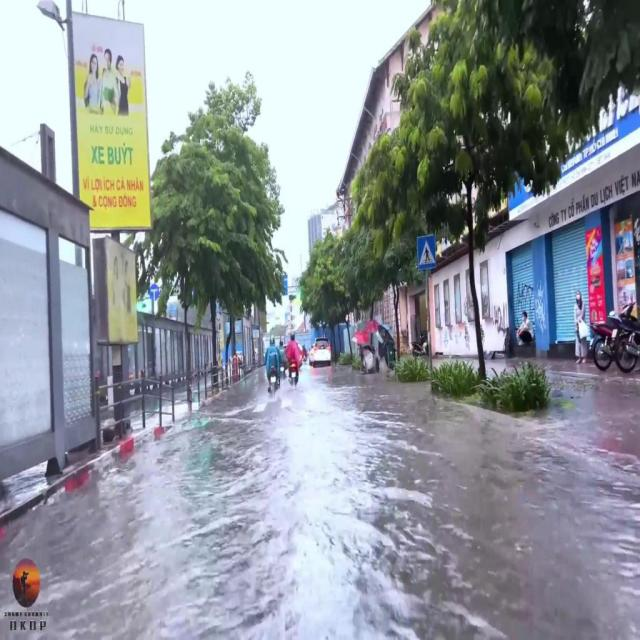duong_nguoi_di_bo_sang_ngang: (416, 235, 436, 269)
khac: (149, 283, 160, 302)
